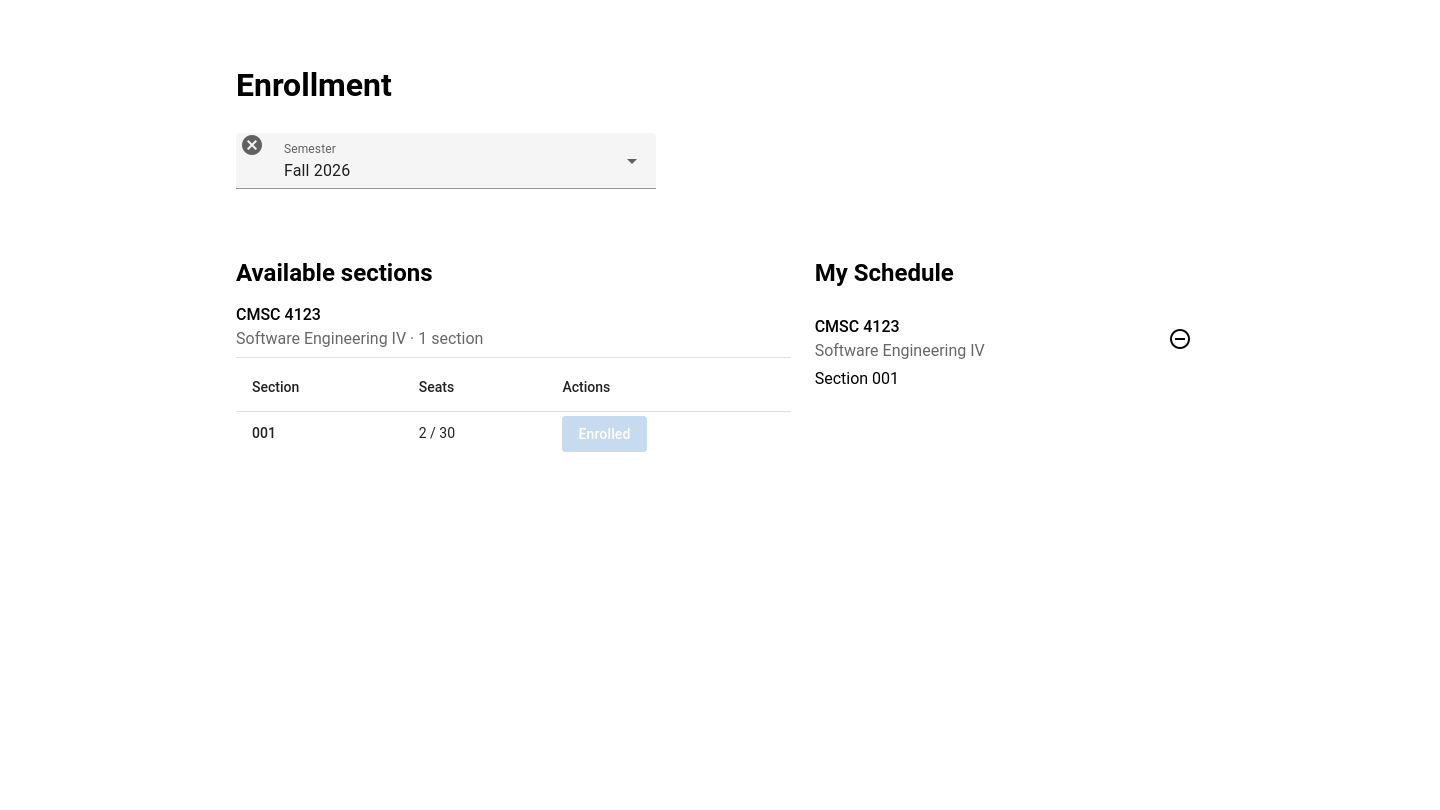
Test: Feature 6 — Enroll view › US-6.5 — Drop a section › Student drops a section
The image size is (1440, 810).
Click the button named "Drop section".
click(1180, 339)  # box top-left (1156, 315), bottom-right (1204, 363)
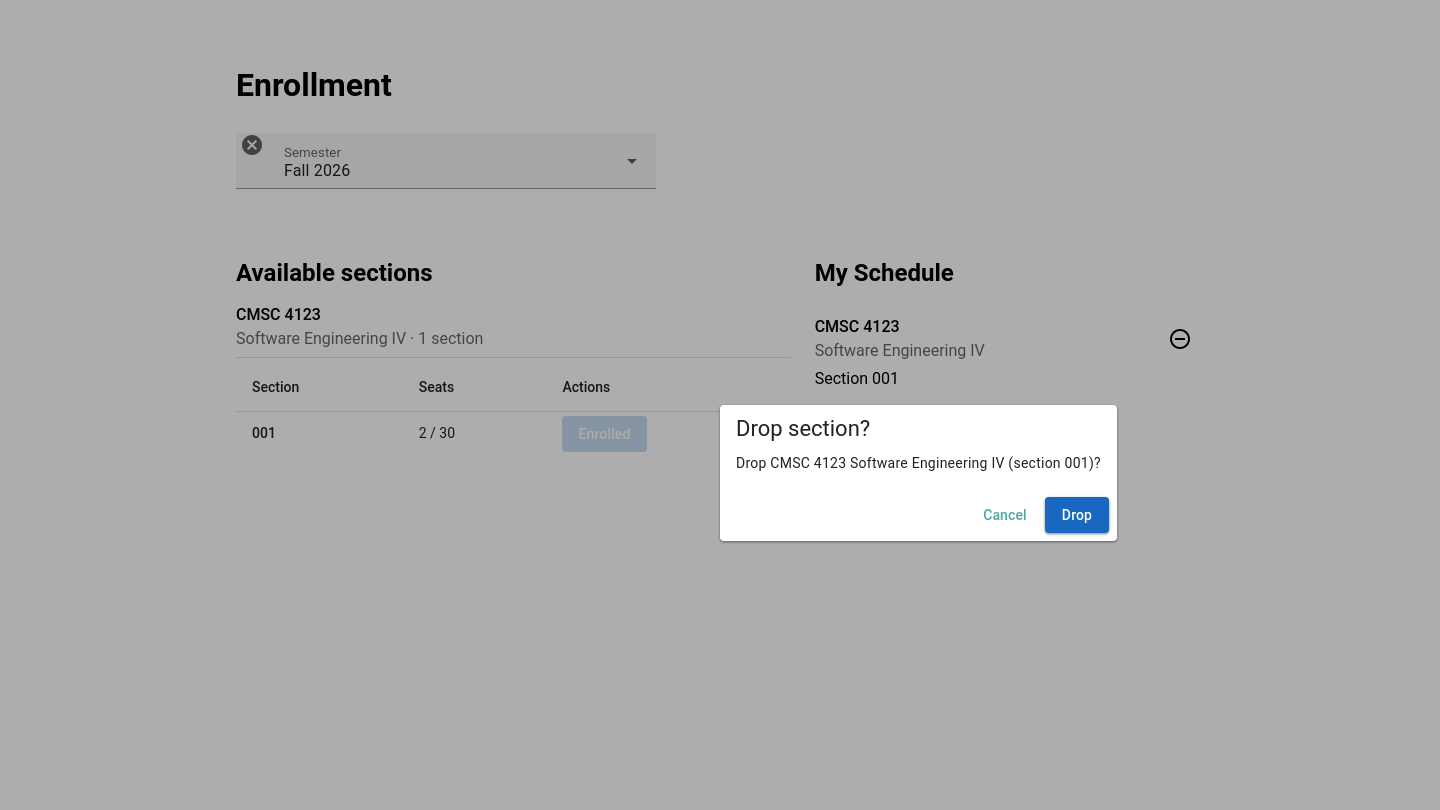
Now the button "Drop" is shown
Click the button "Drop".
click(1077, 515)  # box top-left (1045, 497), bottom-right (1109, 533)
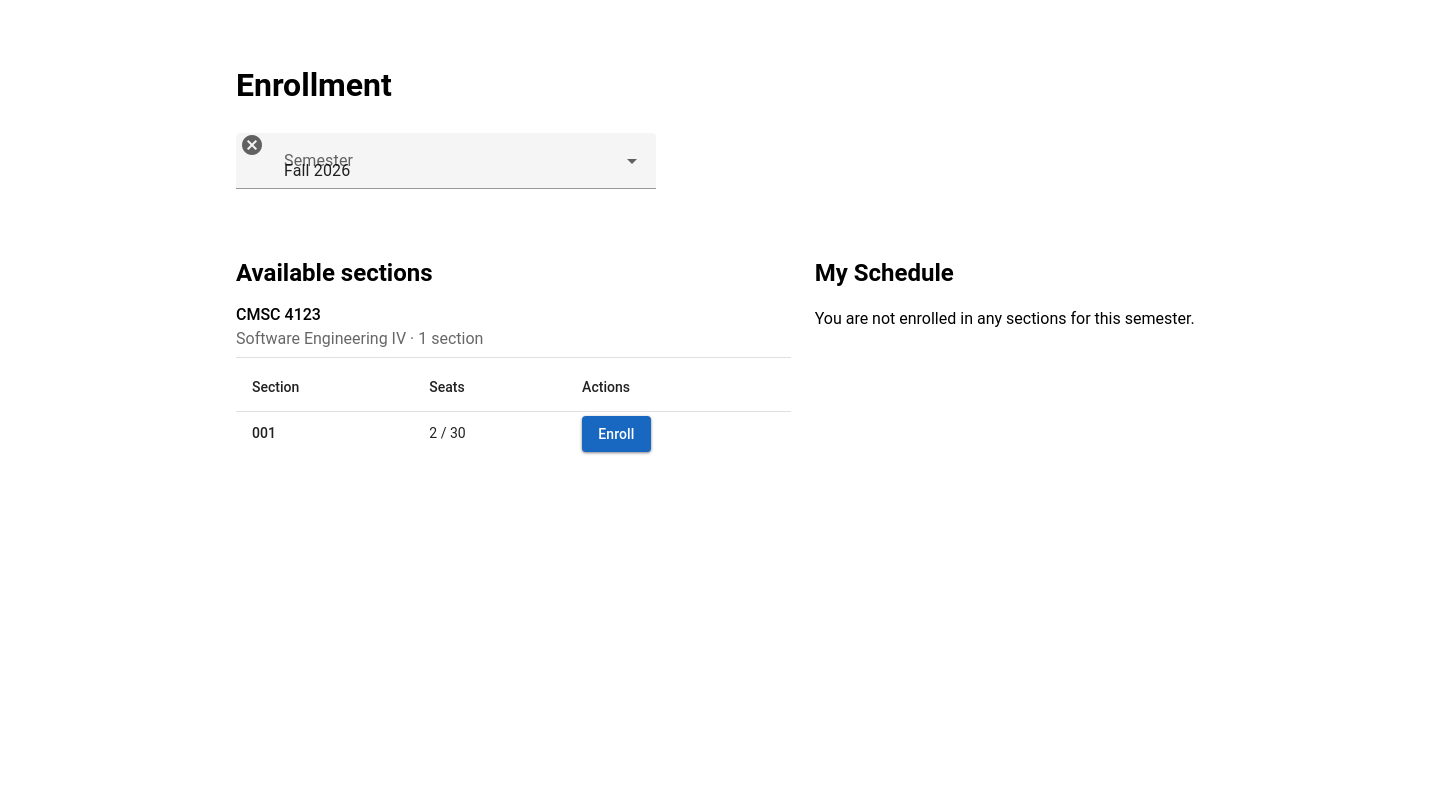
Now the text "You are not enrolled in any sections for this semester." is shown, box top-left (815, 307), bottom-right (1204, 331)
Now the button "Enroll" is shown, box top-left (582, 416), bottom-right (651, 452)
